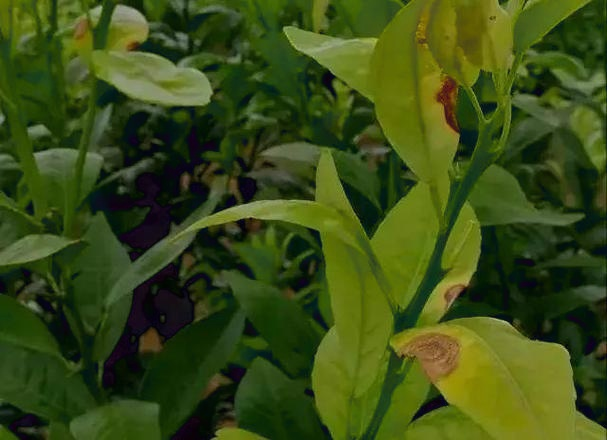Anthracnose: (413, 29, 484, 160), (404, 282, 487, 381)
